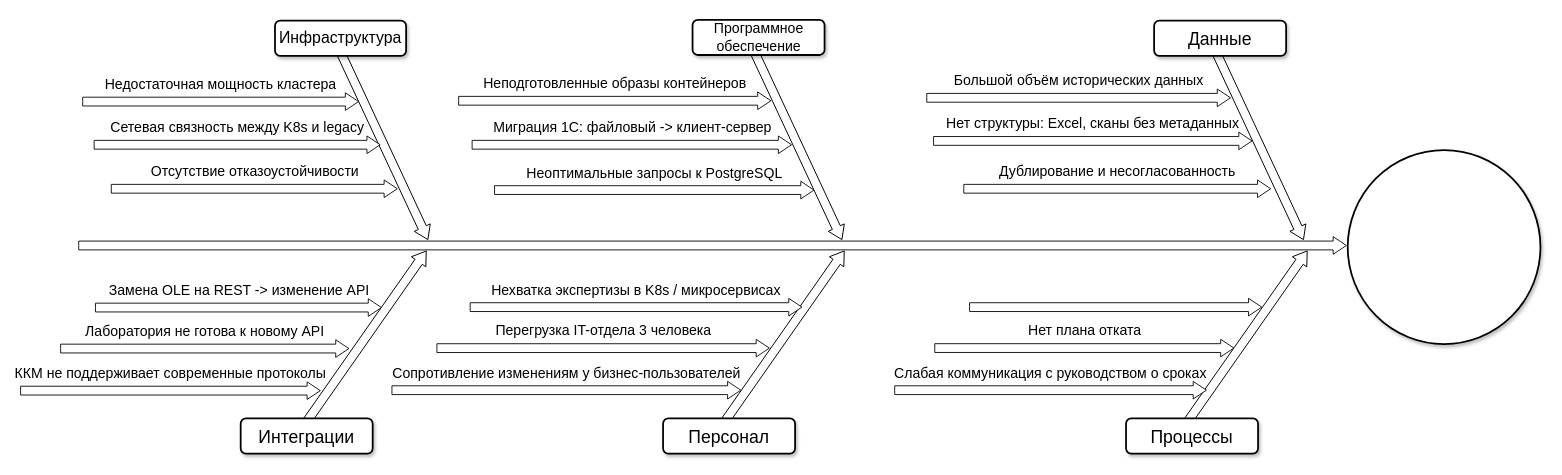
The diagram is 1562 pixels wide and 475 high, and some of its shapes have lost their labels. Each missing label, with the centre of its shape:
Отсутствие тестовой среды, идентичной production: point 1115,306
Узкие места при миграции: снижение производительности, простои, потеря данных: point 1444,248
